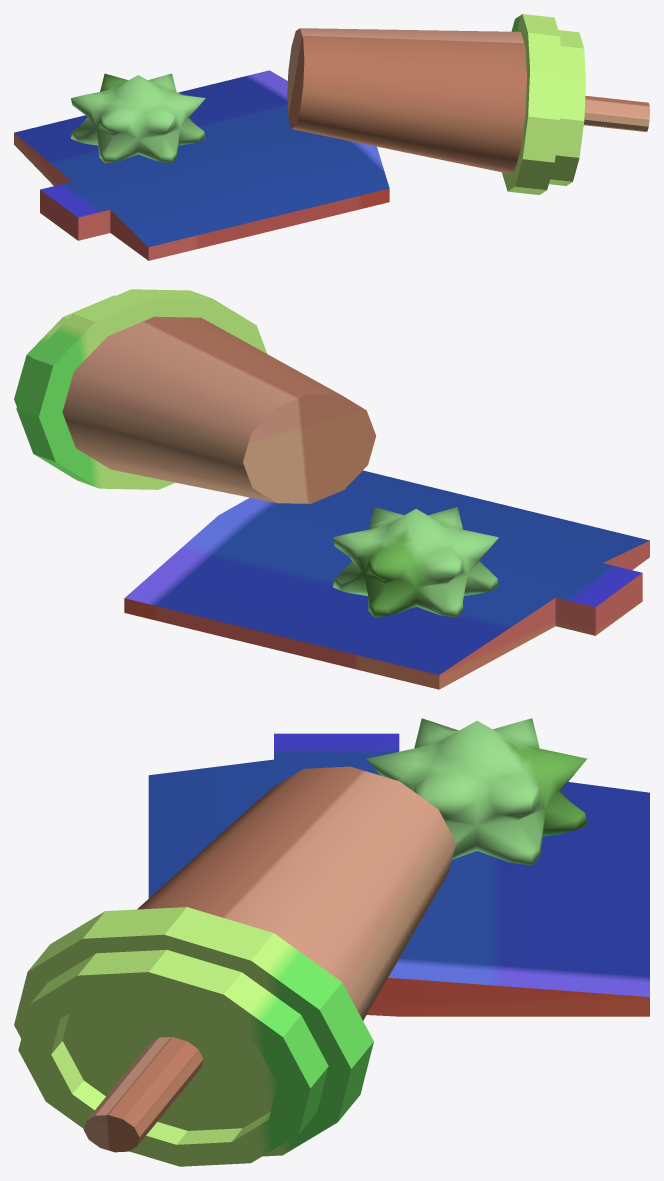
File: Trash.fbx
The picture shows the model from 3 angles, top to bottom: view 1: azimuth 30°, elevation 25°; view 2: azimuth 150°, elevation 25°; view 3: azimuth 270°, elevation 25°; orthographic projection. The views are drawn at different scales.
Parts seen in each view (by area): view 1: Trash; view 2: Trash; view 3: Trash.
Boxes of the visible parts, box(x1,y1,x2,y2) form: Trash: box(14, 14, 649, 260); Trash: box(14, 289, 649, 689); Trash: box(14, 718, 649, 1166).
Size of the model in its own units: 23.68 by 6.41 by 15.1.
